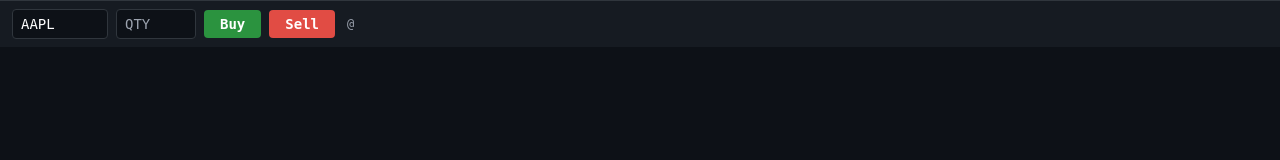
Test: TradeBar › surfaces a trade error inline
In the field named "Quantity": {"x": 156, "y": 24} [116, 9, 196, 39], type "500"
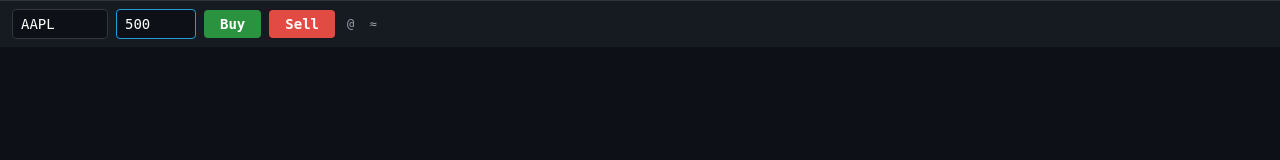
Click the button "Buy": {"x": 233, "y": 24} [204, 10, 261, 38]
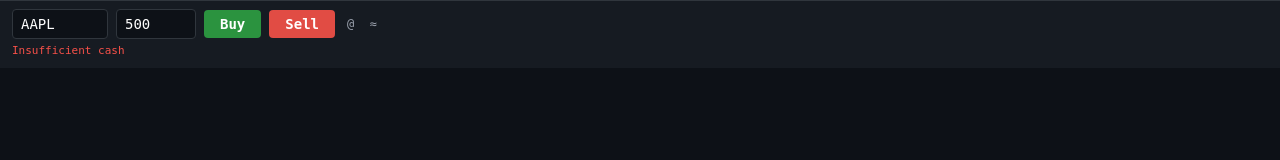
Check: the text "Insufficient cash" is shown, box [12, 44, 125, 57]
